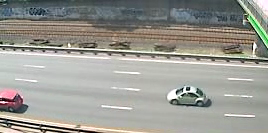car: (164, 84, 210, 109), (1, 88, 28, 113)
